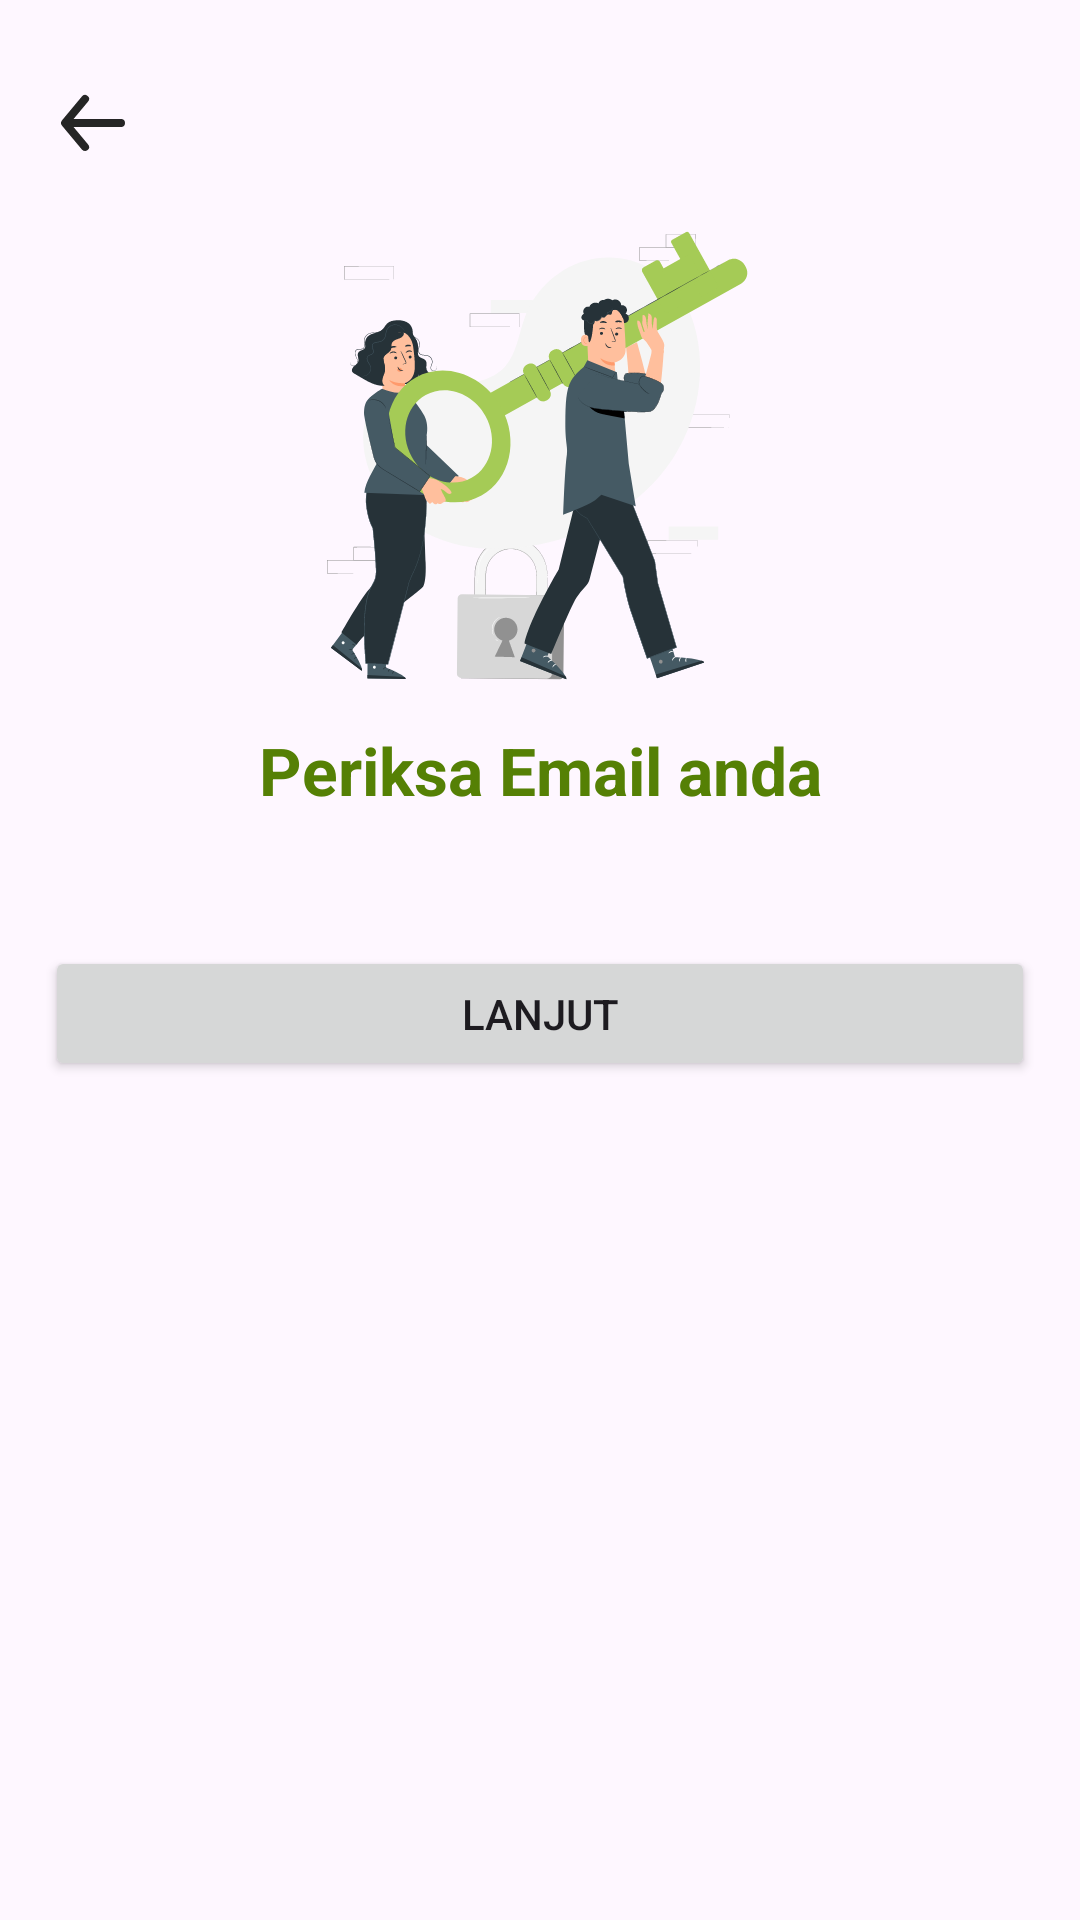

Icon click points for this 1080px×1920px phone screenshot, format point (x, y):
back: point (93, 122)
